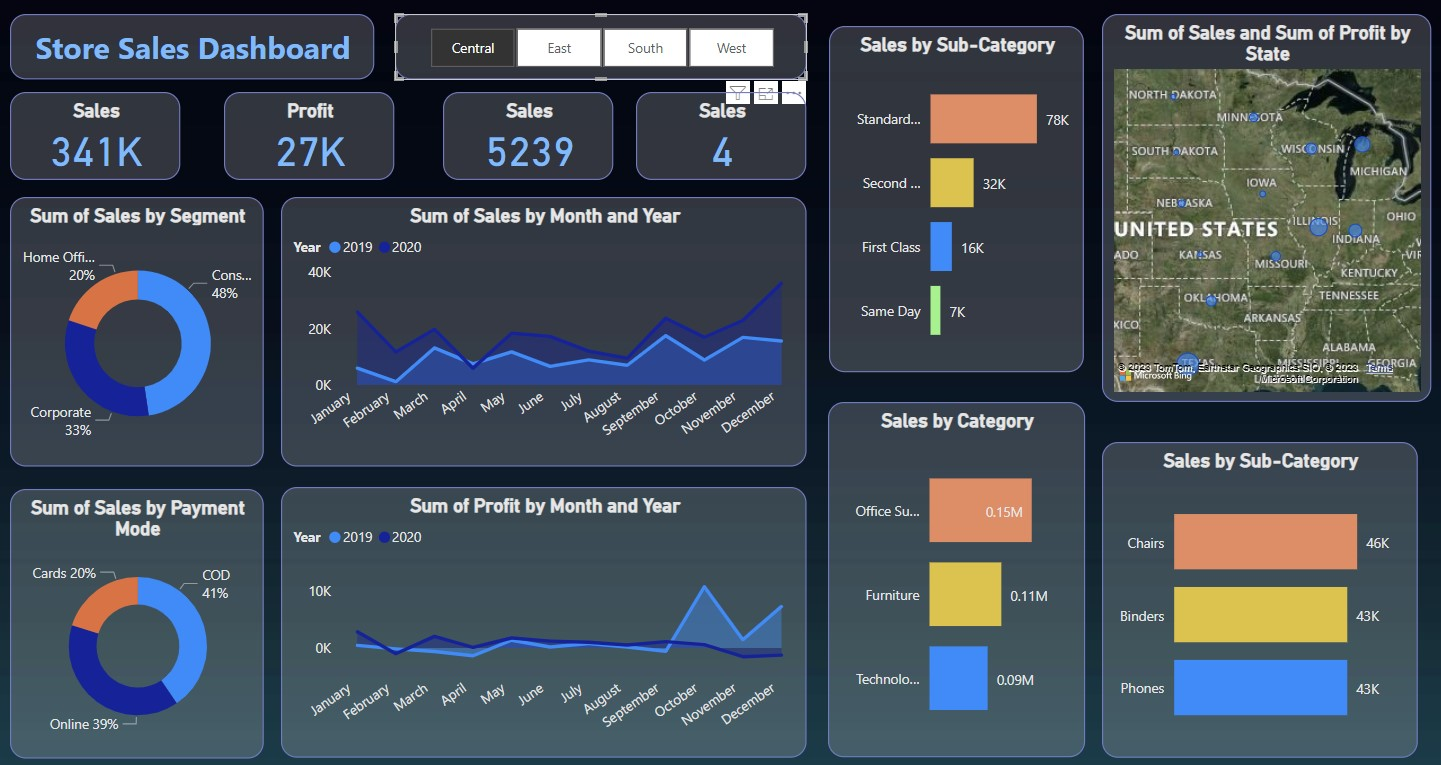

What the dashboard file says about the page in this screenshot:
{"tool":"powerbi","page":{"name":"Page 1","canvas":[1280,720],"ordinal":0},"visuals":[{"type":"clusteredBarChart","title":"Sales by Category","fields":{"Category":["SuperStore_Sales_Dataset.Category"],"Y":["Sum(SuperStore_Sales_Dataset.Sales)"]},"box":[735.6,359.4,227.9,315],"z":0},{"type":"clusteredBarChart","title":"Sales by Sub-Category","fields":{"Category":["SuperStore_Sales_Dataset.Sub-Category"],"Y":["Sum(SuperStore_Sales_Dataset.Sales)"]},"box":[978.7,394.6,279.9,279.9],"z":1000},{"type":"clusteredBarChart","title":"Sales by Sub-Category","fields":{"Category":["SuperStore_Sales_Dataset.Ship Mode"],"Y":["Sum(SuperStore_Sales_Dataset.Sales)"]},"box":[737.1,26,226.3,307.4],"z":2000},{"type":"areaChart","fields":{"Y":["Sum(SuperStore_Sales_Dataset.Sales)"],"Category":["SuperStore_Sales_Dataset.Order Date.Variation.Date Hierarchy.Month"],"Series":["SuperStore_Sales_Dataset.Order Date.Variation.Date Hierarchy.Year"]},"box":[250.8,177.4,466.4,238.6],"z":3000},{"type":"areaChart","fields":{"Category":["SuperStore_Sales_Dataset.Order Date.Variation.Date Hierarchy.Month"],"Series":["SuperStore_Sales_Dataset.Order Date.Variation.Date Hierarchy.Year"],"Y":["Sum(SuperStore_Sales_Dataset.Profit)"]},"box":[250.8,434.3,466.4,240.1],"z":4000},{"type":"map","fields":{"Category":["SuperStore_Sales_Dataset.State"],"Size":["Sum(SuperStore_Sales_Dataset.Sales)"]},"box":[978.7,15.3,292.1,344.1],"z":5000},{"type":"donutChart","fields":{"Category":["SuperStore_Sales_Dataset.Segment"],"Y":["Sum(SuperStore_Sales_Dataset.Sales)"]},"box":[10.7,177.4,224.8,238.6],"z":6000},{"type":"donutChart","fields":{"Y":["Sum(SuperStore_Sales_Dataset.Sales)"],"Category":["SuperStore_Sales_Dataset.Payment Mode"]},"box":[10.7,435.8,224.8,238.6],"z":7000},{"type":"slicer","fields":{"Values":["SuperStore_Sales_Dataset.Region"]},"box":[351.7,15.3,365.5,58.1],"z":8000},{"type":"textbox","box":[10.7,15.3,322.7,58.1],"z":9000},{"type":"card","title":"Sales","fields":{"Values":["Sum(SuperStore_Sales_Dataset.Sales)"]},"box":[10.7,84.1,151.4,78],"z":10000},{"type":"card","title":"Sales","fields":{"Values":["Sum(SuperStore_Sales_Dataset.Quantity)"]},"box":[394.6,84.1,151.4,78],"z":11000},{"type":"card","title":"Profit","fields":{"Values":["Sum(SuperStore_Sales_Dataset.Profit)"]},"box":[200.3,84.1,151.4,78],"z":12000},{"type":"card","title":"Sales","fields":{"Values":["Avg(SuperStore_Sales_Dataset.AvgDel)"]},"box":[565.8,84.1,151.4,78],"z":13000}]}

Visuals, with their boxes on the page's 1280x720 design canvas (x1, y1, x2, y2). These are canvas units, not pixel positions in the 1441x765 screenshot, which may show the page scaled, cropped or inside an application window:
"Sales by Category" clusteredBarChart: bbox=[736, 359, 964, 674]
"Sales by Sub-Category" clusteredBarChart: bbox=[979, 395, 1259, 674]
"Sales by Sub-Category" clusteredBarChart: bbox=[737, 26, 963, 333]
areaChart - Sum(SuperStore_Sales_Dataset.Sales) x SuperStore_Sales_Dataset.Order Date.Variation.Date Hierarchy.Month: bbox=[251, 177, 717, 416]
areaChart - SuperStore_Sales_Dataset.Order Date.Variation.Date Hierarchy.Month x SuperStore_Sales_Dataset.Order Date.Variation.Date Hierarchy.Year: bbox=[251, 434, 717, 674]
map - SuperStore_Sales_Dataset.State x Sum(SuperStore_Sales_Dataset.Sales): bbox=[979, 15, 1271, 359]
donutChart - SuperStore_Sales_Dataset.Segment x Sum(SuperStore_Sales_Dataset.Sales): bbox=[11, 177, 236, 416]
donutChart - Sum(SuperStore_Sales_Dataset.Sales) x SuperStore_Sales_Dataset.Payment Mode: bbox=[11, 436, 236, 674]
slicer - SuperStore_Sales_Dataset.Region: bbox=[352, 15, 717, 73]
textbox: bbox=[11, 15, 333, 73]
"Sales" card: bbox=[11, 84, 162, 162]
"Sales" card: bbox=[395, 84, 546, 162]
"Profit" card: bbox=[200, 84, 352, 162]
"Sales" card: bbox=[566, 84, 717, 162]
